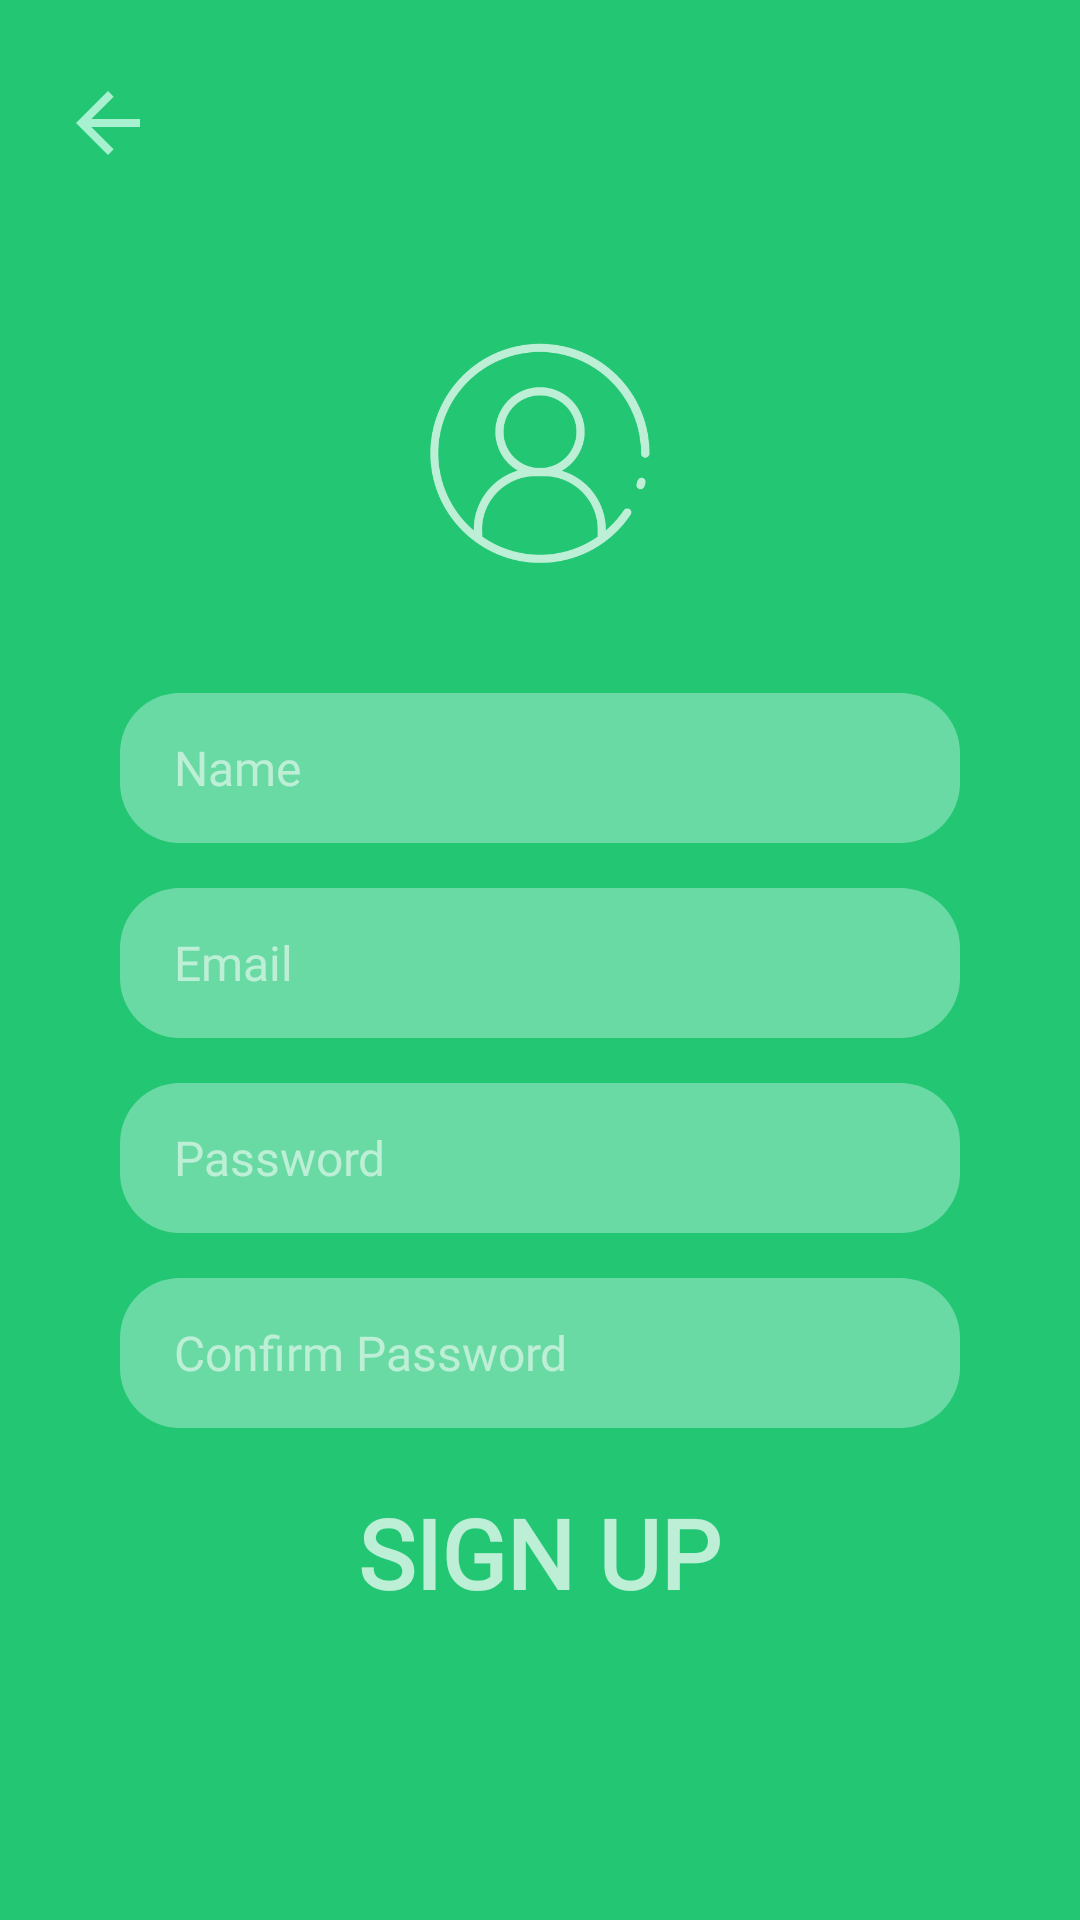

Icons on this 1080px x 1920px Android screen, each with the point to tap as (x,y):
back: (108,123)
